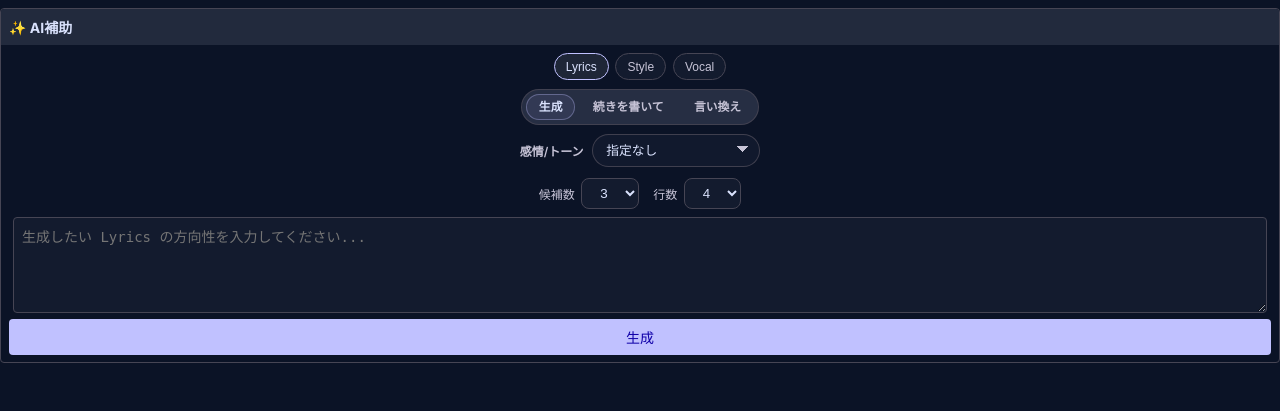
Test case: LLMAssistPanel › generation flow › should show error on failed generation
Click the button "生成". click: coordinates (640, 337)
box: [9,319,1271,355]
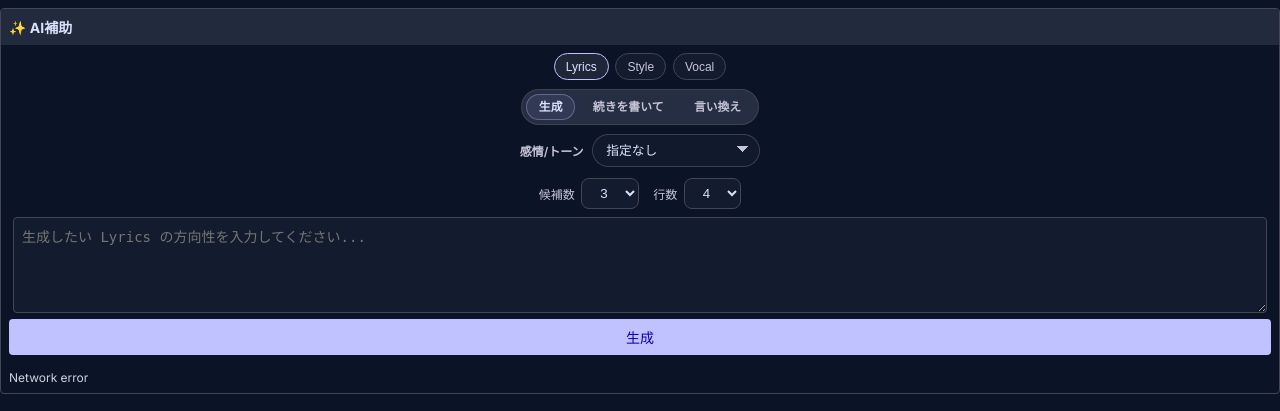
Check: the text "Network error" is shown, box [9,370,88,385]
